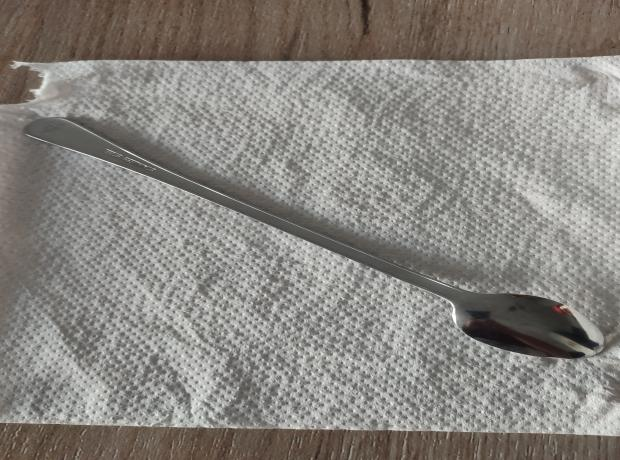metal: (21, 117, 607, 359)
